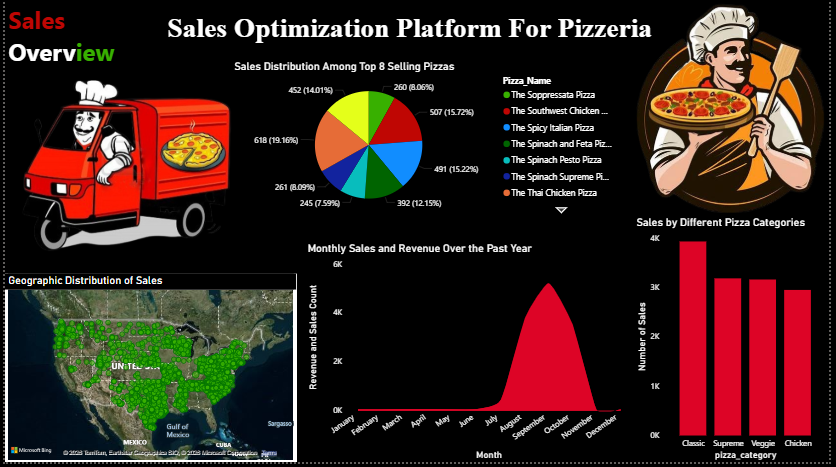

The page's visual inventory and layout, read from the dashboard file:
{"tool":"powerbi","page":{"name":"Sales Overview","canvas":[1280,720],"ordinal":0},"visuals":[{"type":"lineChart","title":"Monthly Sales and Revenue Over the Past Year","fields":{"Category":["orders.D_date.Variation.Date Hierarchy.Month"],"Y":["Sum(orders.quantity)","Count(orders.order_id)"]},"box":[464.5,377.6,510.3,342.6],"z":0},{"type":"columnChart","title":"Sales by Different Pizza Categories","fields":{"Category":["Query9.pizza_category"],"Y":["CountNonNull(orders.order_id)"]},"box":[976,336.6,304,383.6],"z":3000},{"type":"pieChart","title":"Sales Distribution Among Top 8 Selling Pizzas","fields":{"Y":["CountNonNull(orders.order_id)"],"Series":["orders.pizza_name"]},"box":[348.7,73.6,612.9,272.7],"z":4000},{"type":"map","title":"Geographic Distribution of Sales","fields":{"Y":["Avg(Query1.latitude)"],"X":["Avg(Query1.longitude)"],"Category":["orders.cust_address"],"Size":["Sum(Query1.order_id)"]},"box":[0,425.9,452.4,294.4],"z":5000},{"type":"textbox","box":[247.3,13.3,778.2,60.3],"z":6000},{"type":"image","box":[974.8,0,305.2,336.6],"z":7000},{"type":"image","box":[0,102.5,377.6,314.9],"z":8000},{"type":"textbox","box":[0,0,247.3,126.7],"z":9000}]}

Visuals, with their boxes in screenshot pixels (x1, y1, x2, y2), scaled from the page's 1280x720 canvas onto the 836x467 screenshot:
"Monthly Sales and Revenue Over the Past Year" lineChart: 303/245/637/466
"Sales by Different Pizza Categories" columnChart: 637/218/835/466
"Sales Distribution Among Top 8 Selling Pizzas" pieChart: 228/48/628/225
"Geographic Distribution of Sales" map: 0/276/295/466
textbox: 162/9/670/48
image: 637/0/835/218
image: 0/66/247/271
textbox: 0/0/162/82
